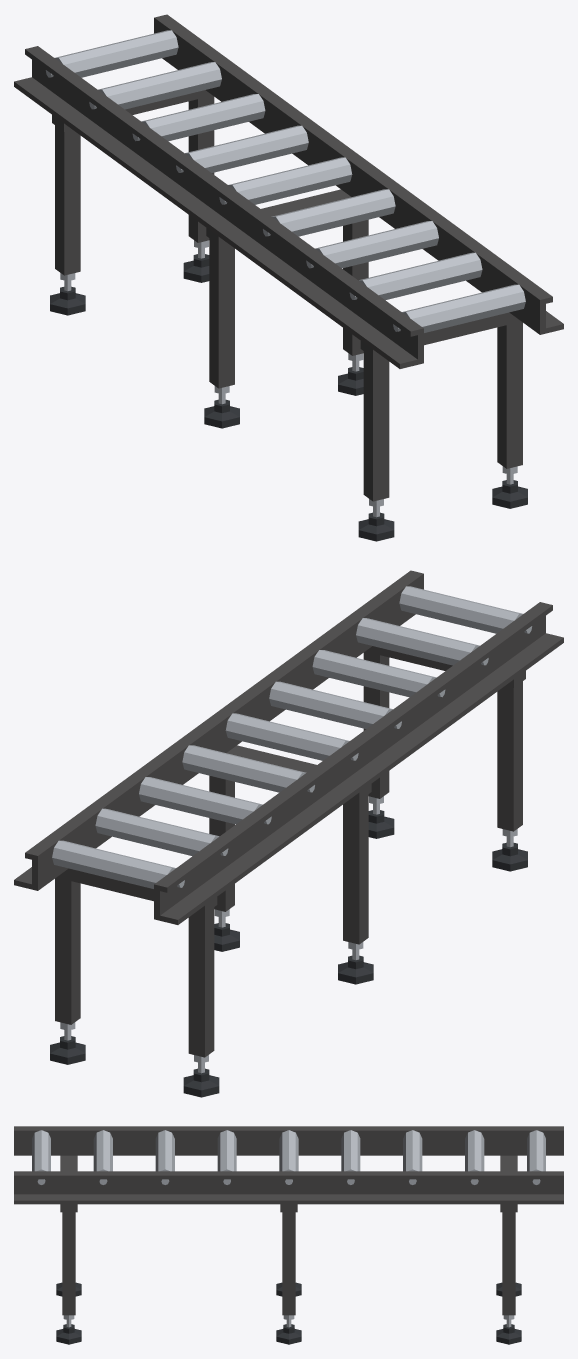
Rendered from SM_Prop_Roller_Track_01.fbx.
3 views of the same model, one above another, from view 1: azimuth 30°, elevation 25°; view 2: azimuth 150°, elevation 25°; view 3: azimuth 270°, elevation 25° (orthographic). The views are drawn at different scales.
Visible parts, largest first — view 1: SM_Prop_Roller_Track_01; view 2: SM_Prop_Roller_Track_01; view 3: SM_Prop_Roller_Track_01.
Boxes of the visible parts, x1,y1,x2,y2 form: SM_Prop_Roller_Track_01: (14, 14, 563, 541); SM_Prop_Roller_Track_01: (14, 570, 563, 1097); SM_Prop_Roller_Track_01: (14, 1126, 563, 1344).
Bounding box in the file's own units: 50.6 × 66.46 × 200.
